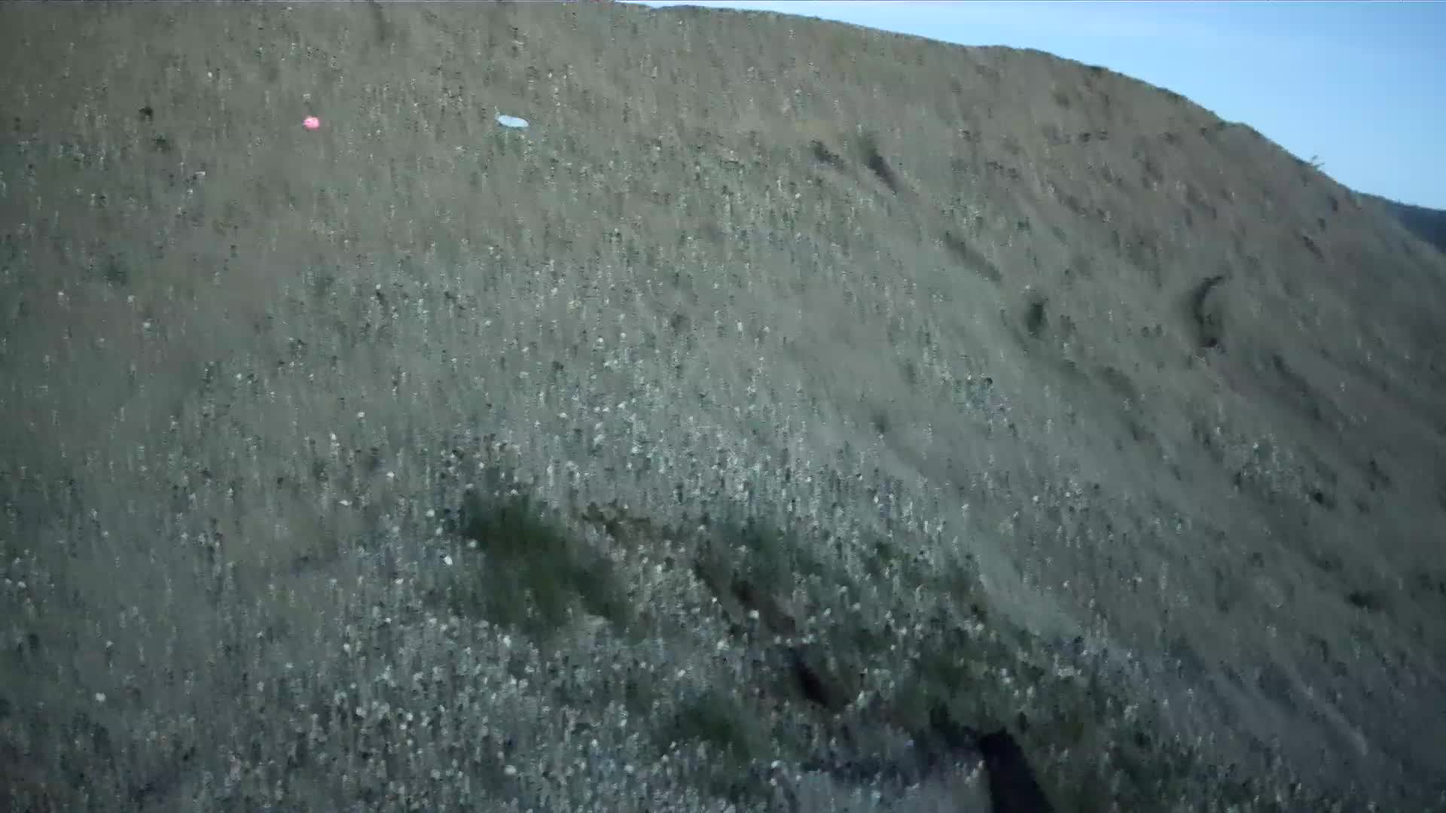Target: (491, 110, 533, 134)
